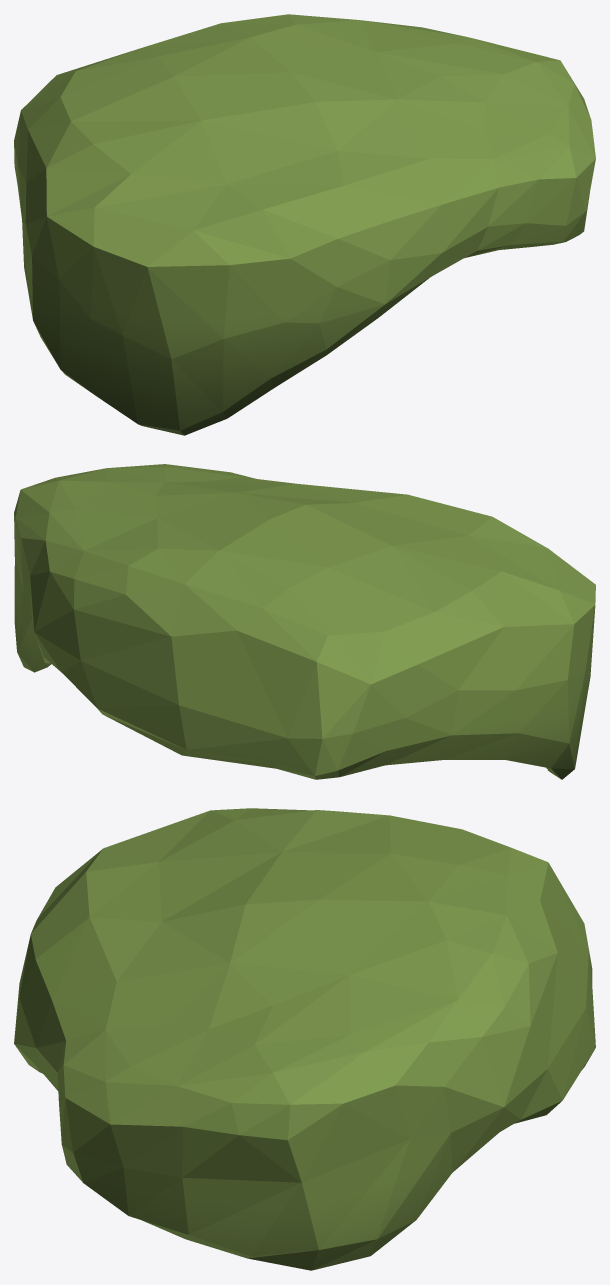
Rendered from Jungle_PlatformRock_Small_A_Grass.fbx.
The picture shows the model from 3 angles, top to bottom: view 1: azimuth 30°, elevation 25°; view 2: azimuth 150°, elevation 25°; view 3: azimuth 270°, elevation 25°; orthographic projection. The views are drawn at different scales.
Parts seen in each view (by area): view 1: Jungle_PlatformRock_Small_A_Grass; view 2: Jungle_PlatformRock_Small_A_Grass; view 3: Jungle_PlatformRock_Small_A_Grass.
Part boxes in pixels (box(x1,y1,x2,y2)): Jungle_PlatformRock_Small_A_Grass: box(14, 14, 595, 435); Jungle_PlatformRock_Small_A_Grass: box(14, 464, 595, 779); Jungle_PlatformRock_Small_A_Grass: box(14, 808, 595, 1270).
Bounding box in the file's own units: 6.82 × 3.05 × 5.21.
